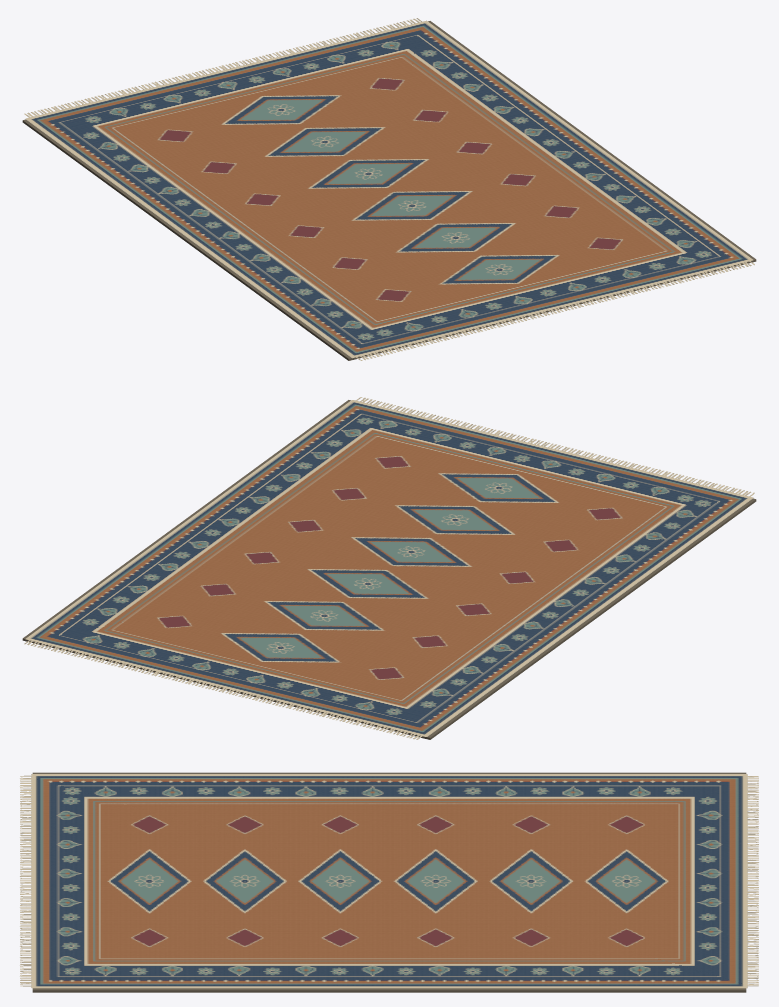
Rendered from officePersianCopper.glb.
3 views of the same model, one above another, from view 1: azimuth 30°, elevation 25°; view 2: azimuth 150°, elevation 25°; view 3: azimuth 270°, elevation 25° (orthographic). The views are drawn at different scales.
Size of the model in its own units: 2.4 by 0.014 by 3.5.
2 materials, 1 textured.
